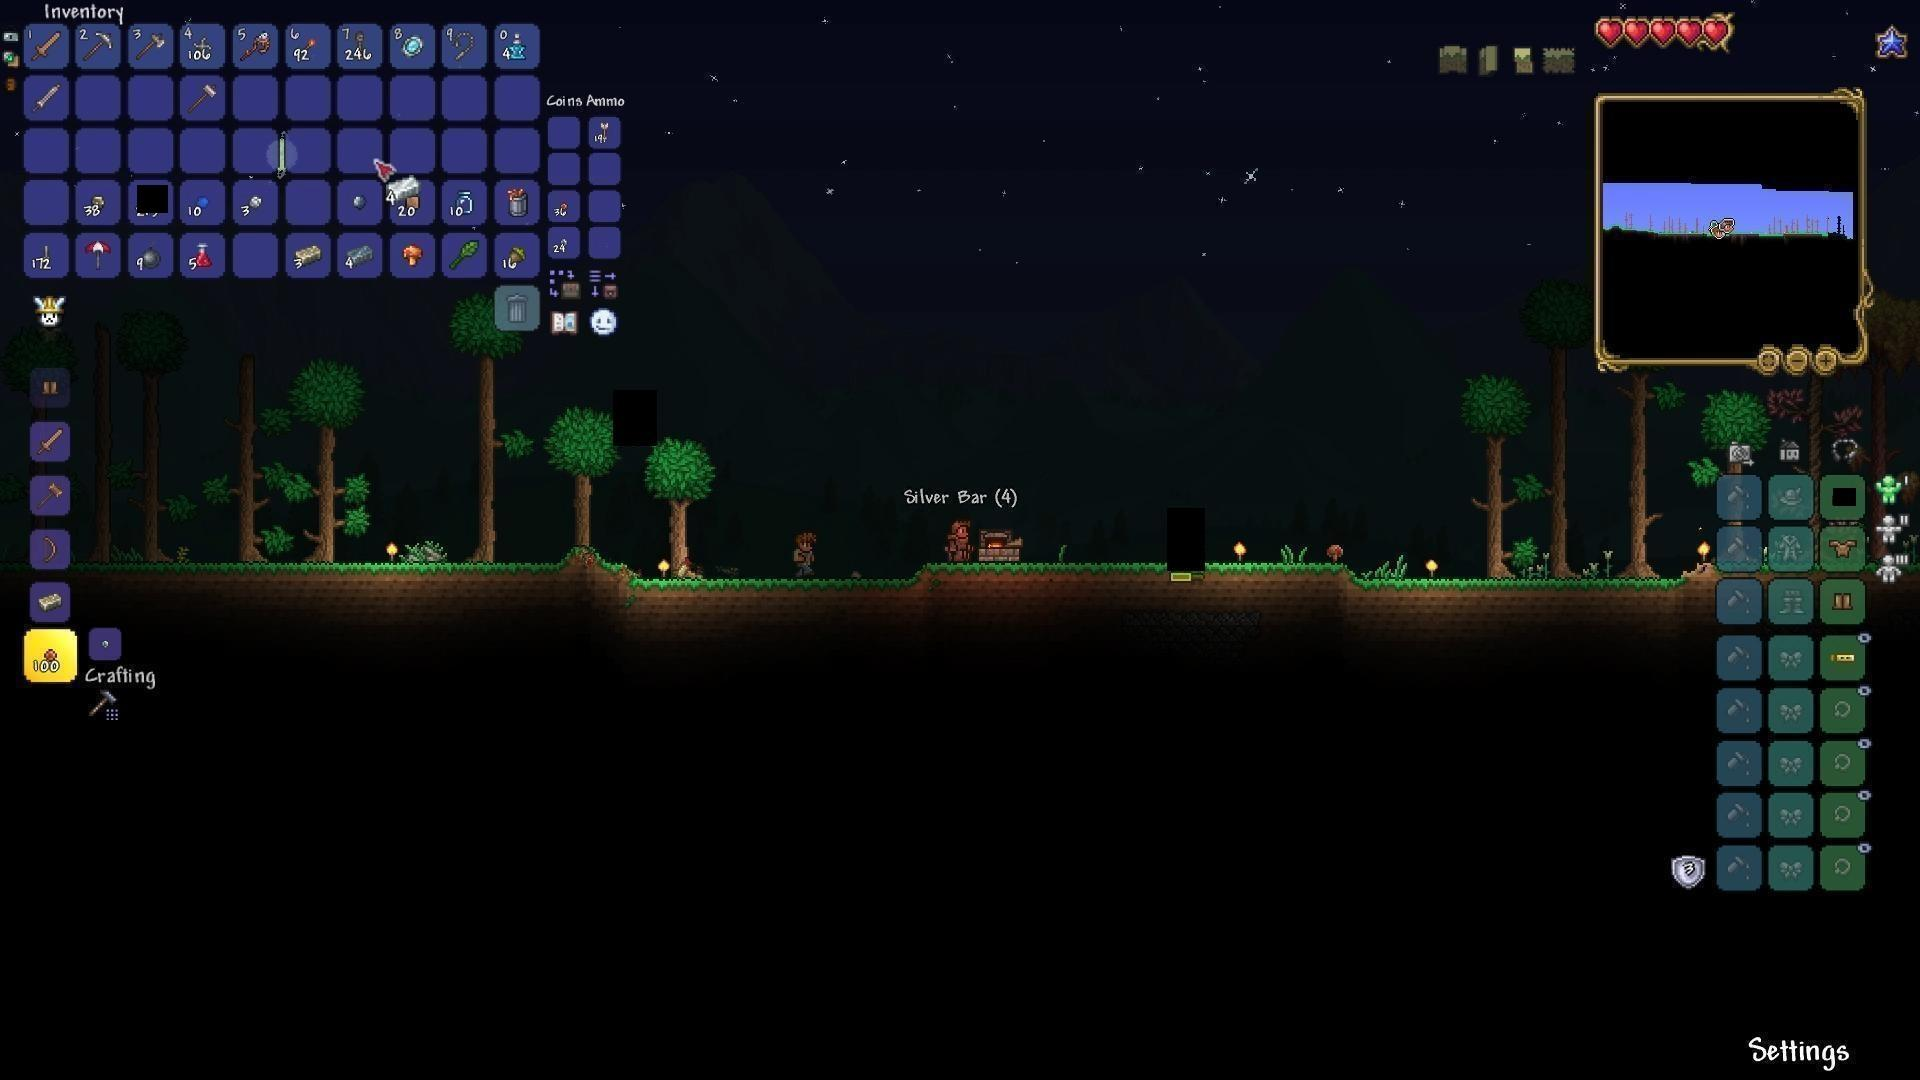breastplate: (1828, 538, 1859, 560)
legs: (1828, 589, 1857, 615)
